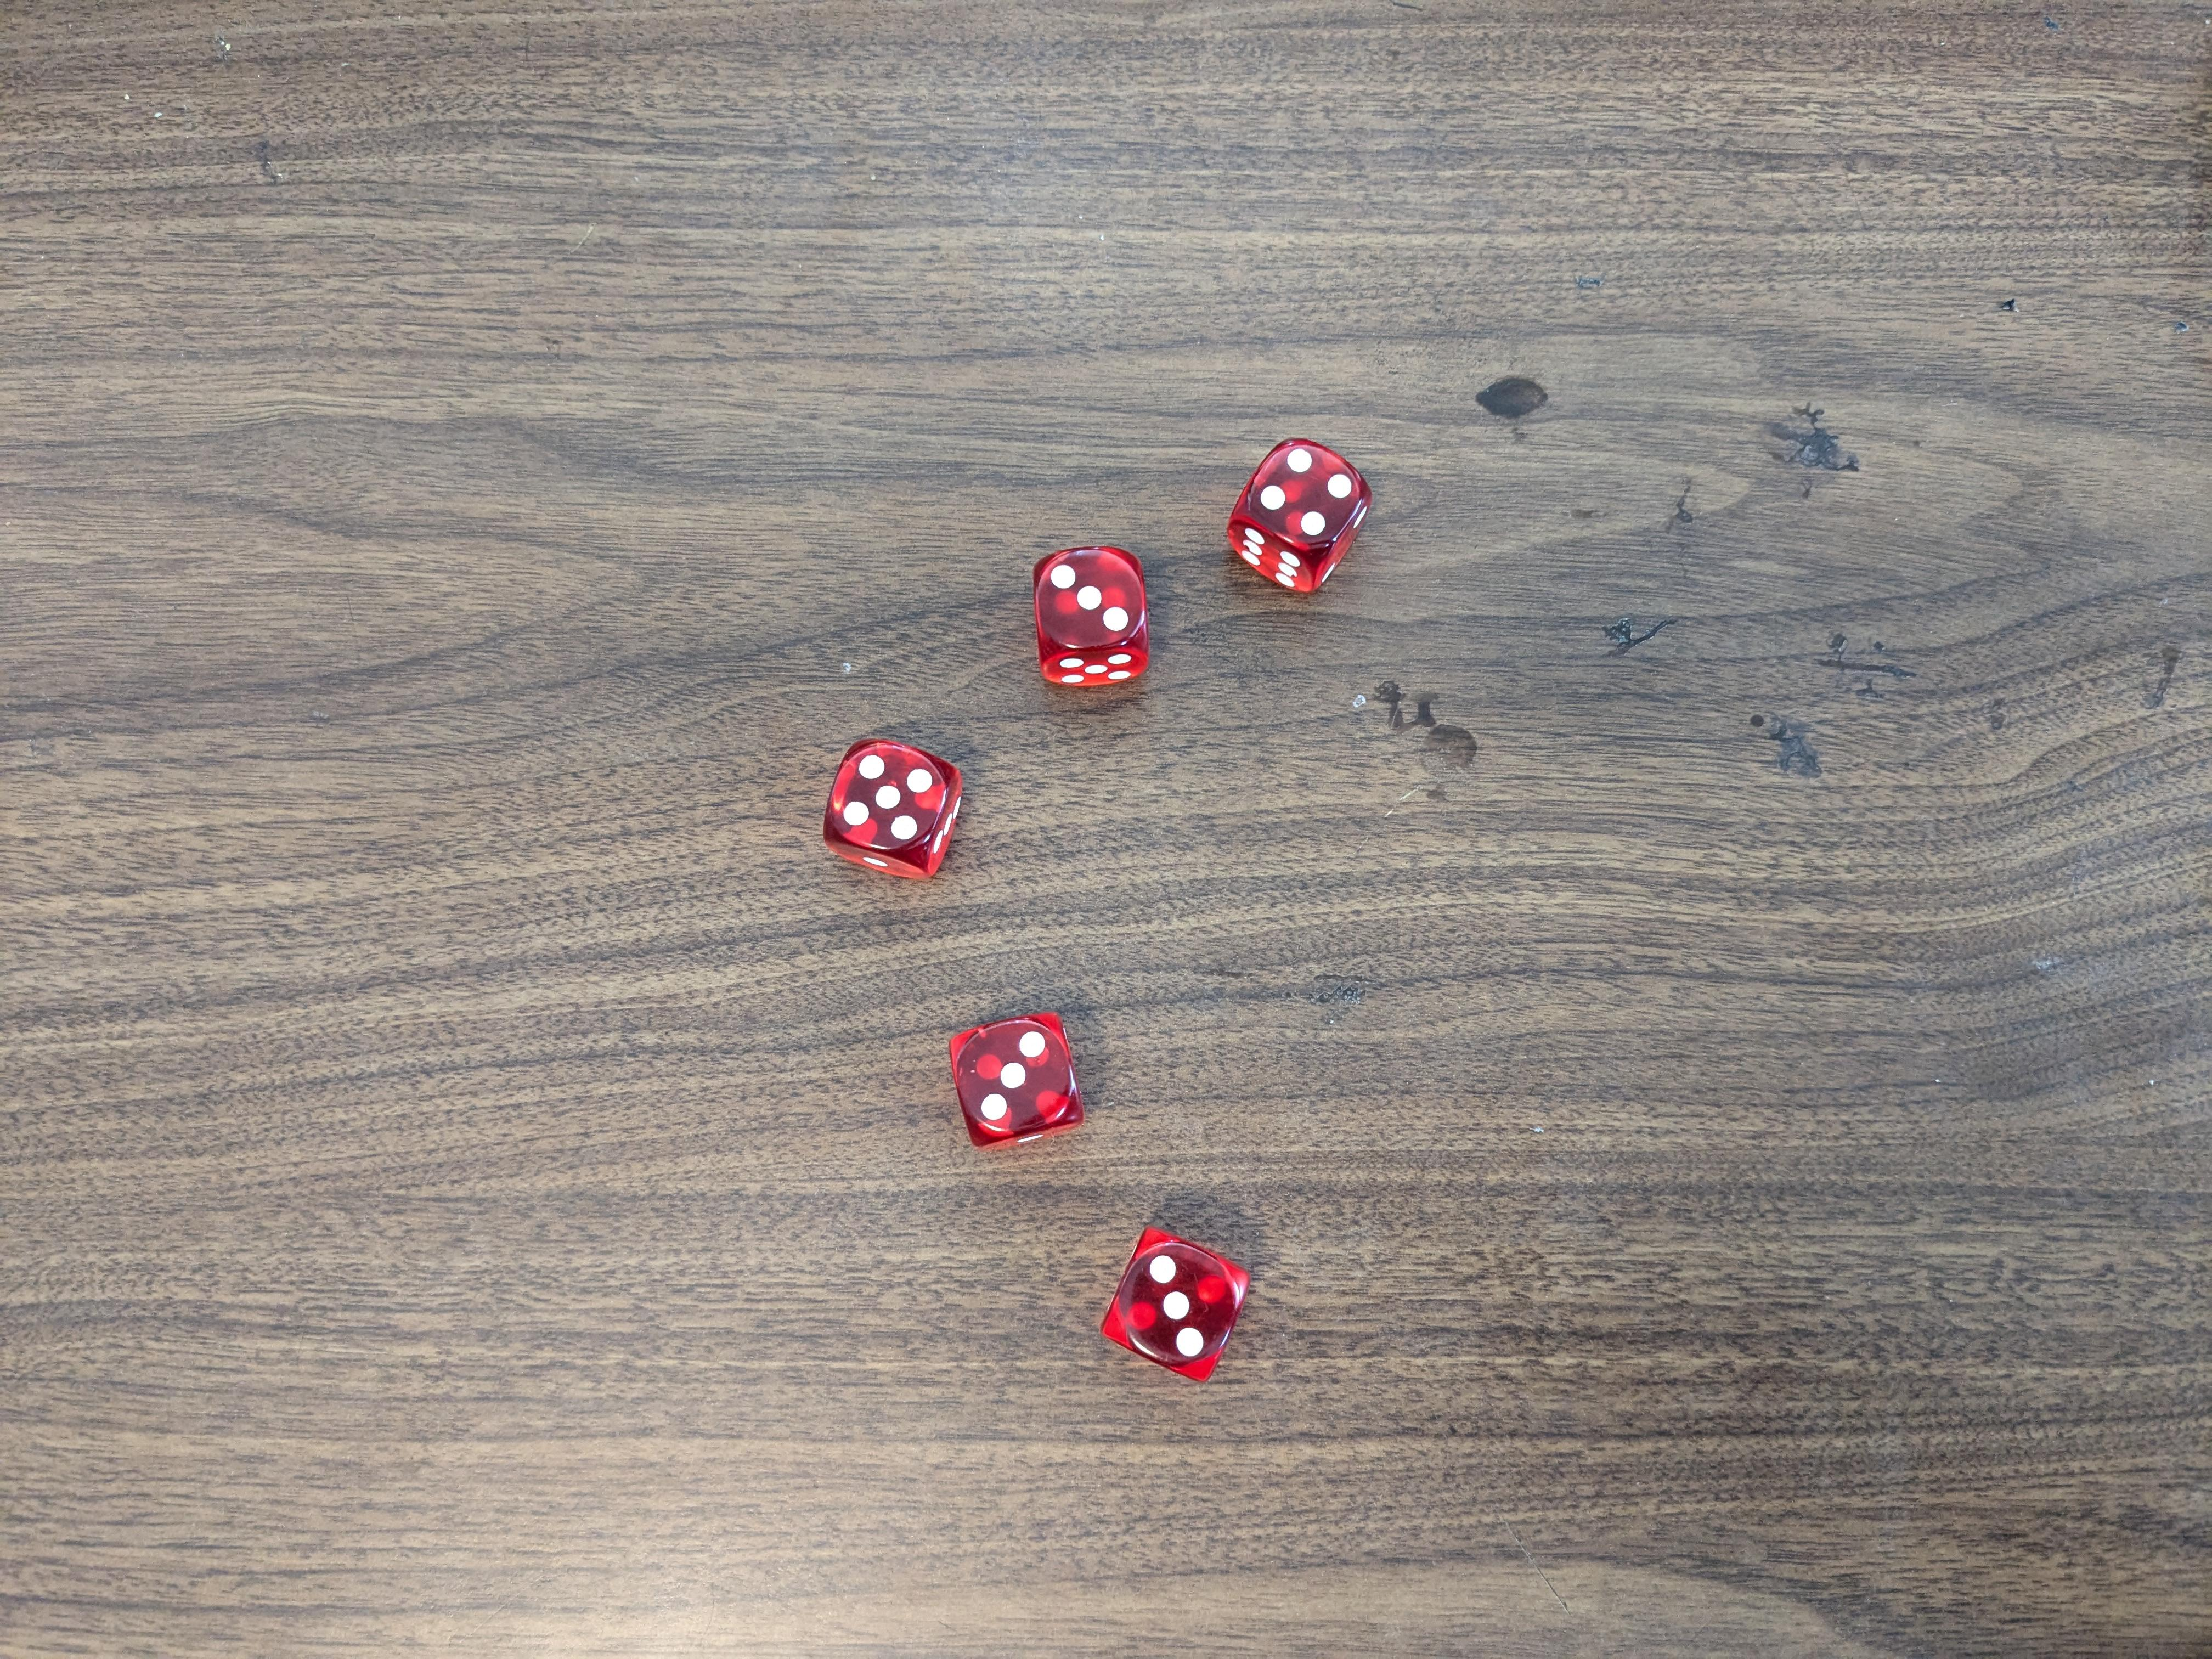five: (822, 732, 958, 882)
four: (1224, 434, 1376, 589)
three: (1104, 1229, 1247, 1392), (946, 1009, 1087, 1148), (1028, 538, 1153, 692)
